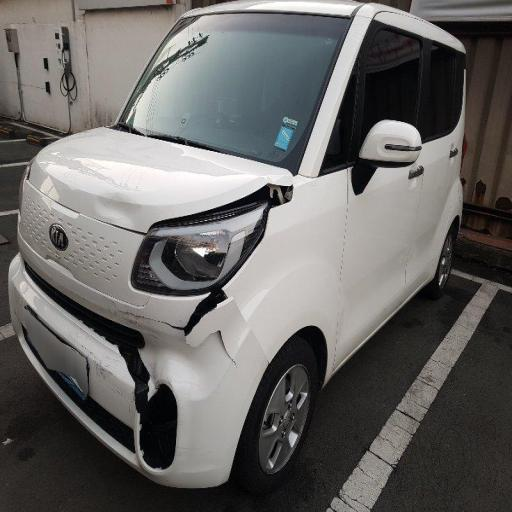broken: (154, 129, 306, 380), (88, 305, 209, 485)
